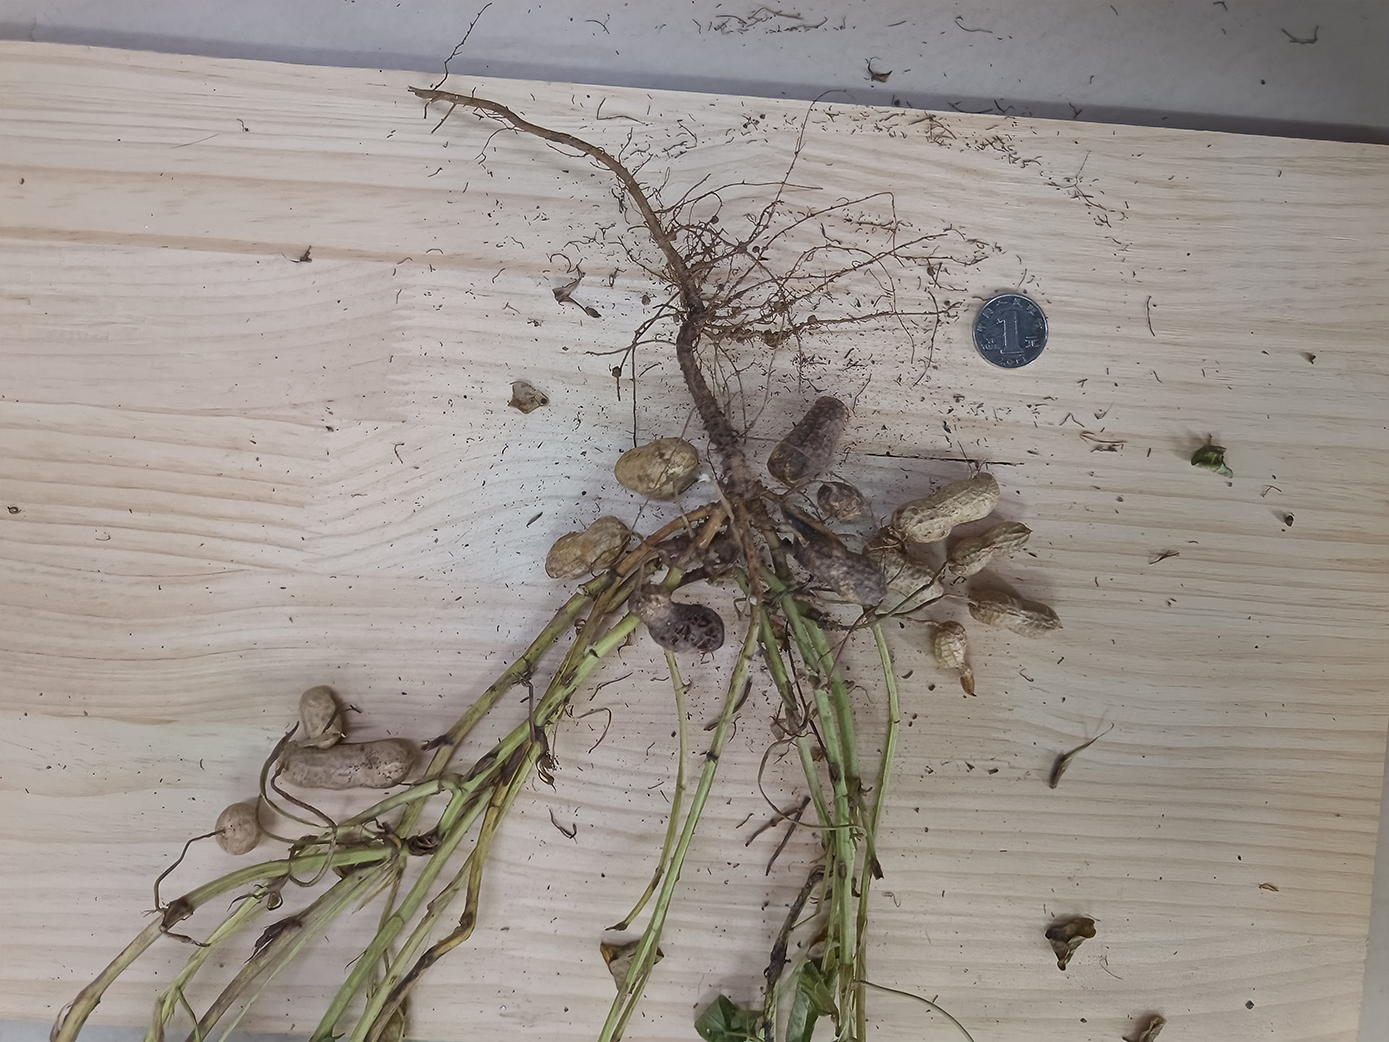h: (893, 472, 1000, 534), (946, 522, 1034, 584), (545, 516, 628, 580), (614, 437, 699, 497), (867, 532, 944, 598), (968, 590, 1065, 639), (215, 802, 262, 855)
l: (791, 526, 886, 606), (628, 583, 724, 655), (767, 396, 846, 481), (931, 621, 975, 695), (817, 481, 865, 520)
